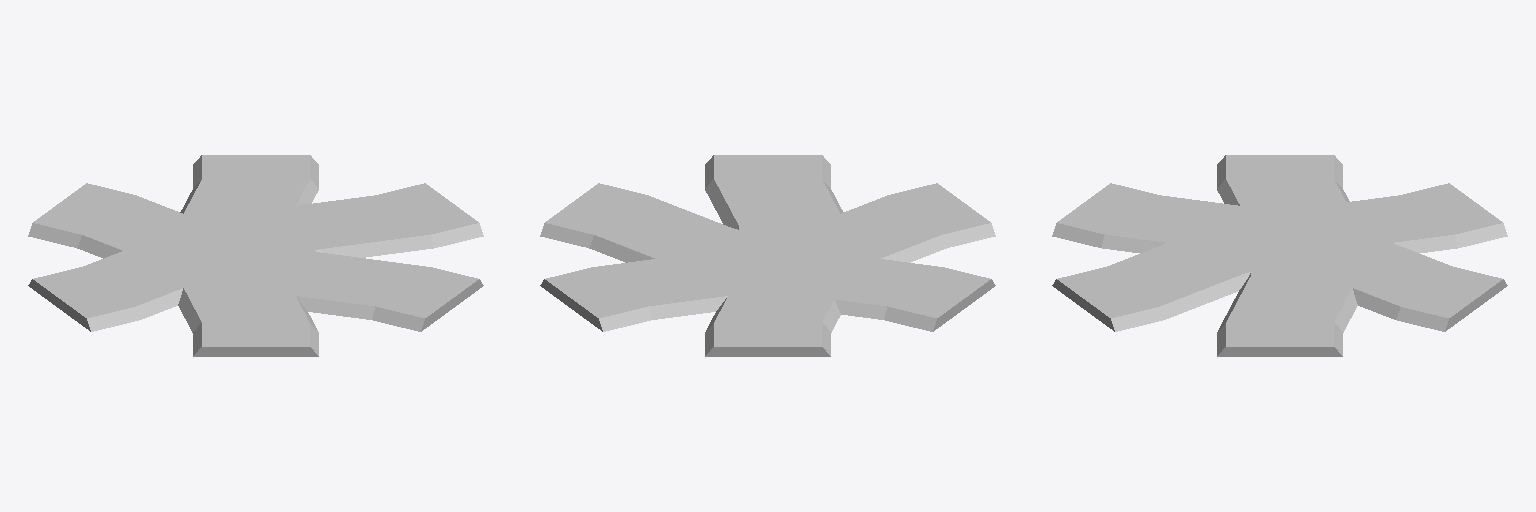
File: path_crossing.obj
3 renders of one model, left to right at view 1: azimuth 30°, elevation 25°; view 2: azimuth 150°, elevation 25°; view 3: azimuth 270°, elevation 25°, orthographic.
Visible parts, largest first — view 1: path_crossing; view 2: path_crossing; view 3: path_crossing.
Part boxes in pixels (bbox=[...]): path_crossing: bbox=[28, 155, 483, 356]; path_crossing: bbox=[540, 155, 995, 356]; path_crossing: bbox=[1052, 155, 1507, 356].
Bounding box in the file's own units: 1 × 0.025 × 1.01.